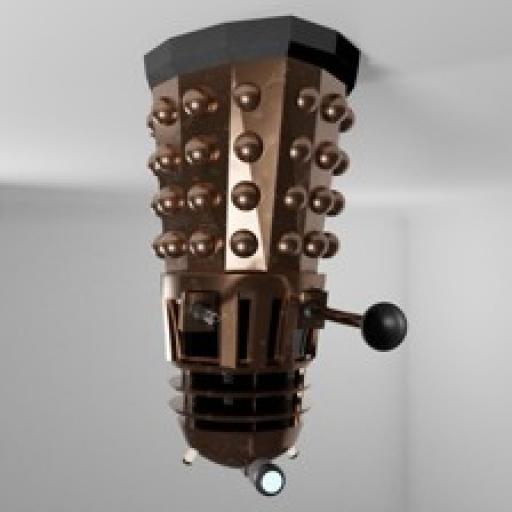dalek: (144, 12, 408, 500)
